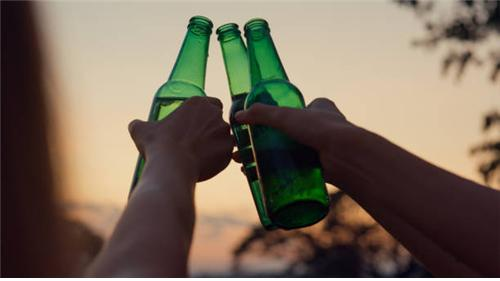alcohol: (243, 19, 334, 233), (130, 17, 212, 196), (215, 23, 282, 235)
